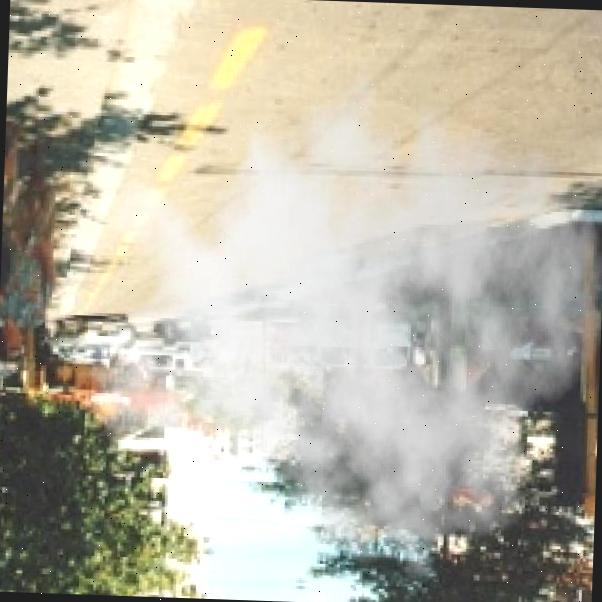smoke: (76, 30, 602, 602)
